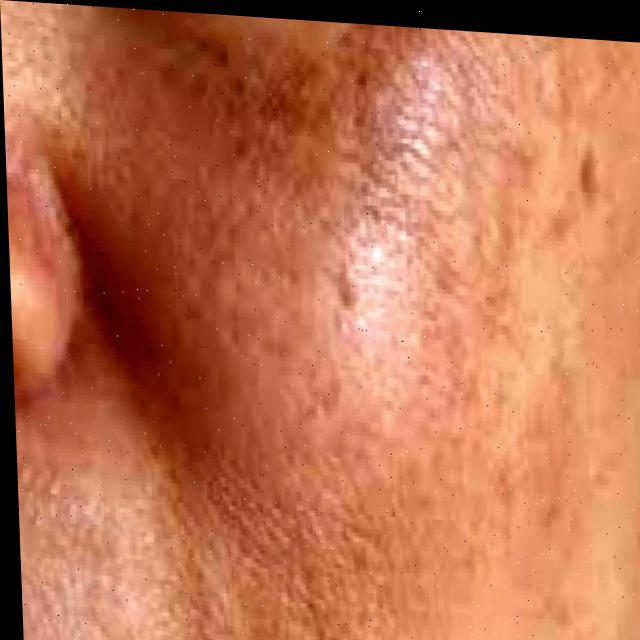Melasma: (126, 35, 538, 558)
